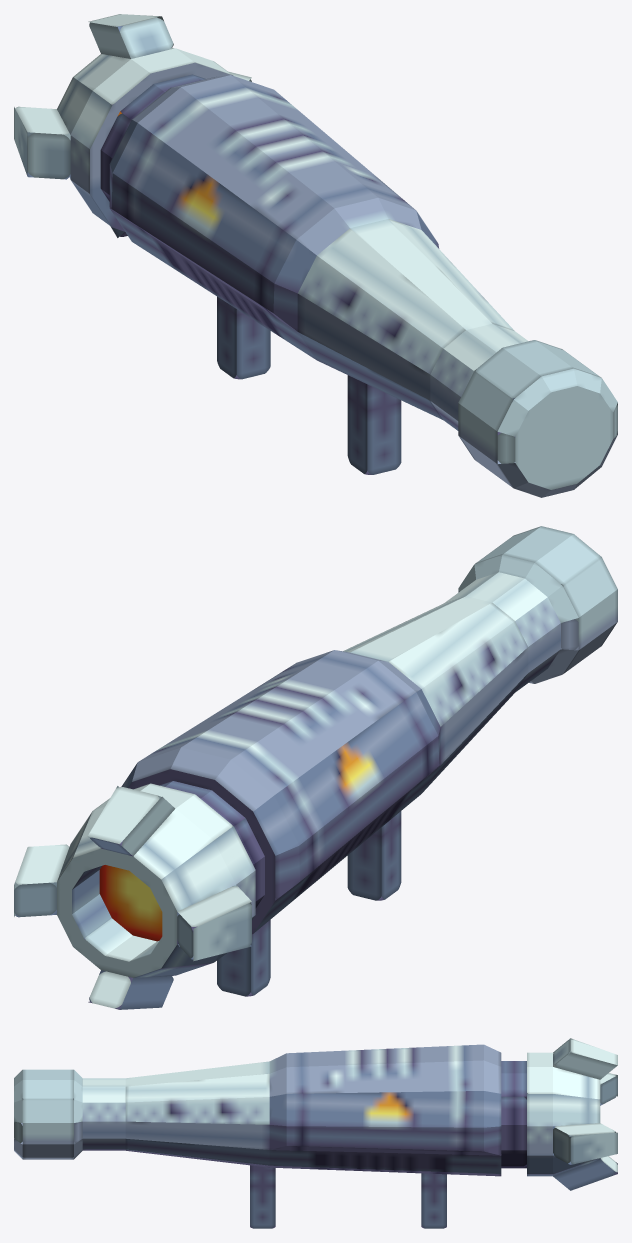
File: rocketlauncher.fbx
3 renders of one model, top to bottom at view 1: azimuth 30°, elevation 25°; view 2: azimuth 150°, elevation 25°; view 3: azimuth 270°, elevation 25°, orthographic. The views are drawn at different scales.
Visible parts, largest first — view 1: base, handle_back, handle_front; view 2: base, handle_back, handle_front; view 3: base, handle_back, handle_front.
Part boxes in pixels (x1,y1,x2,y2): base: (14, 14, 617, 497); handle_back: (347, 375, 401, 474); handle_front: (217, 296, 270, 379); base: (14, 526, 617, 1009); handle_back: (347, 811, 401, 900); handle_front: (217, 885, 270, 996); base: (14, 1038, 617, 1190); handle_back: (250, 1165, 275, 1228); handle_front: (421, 1173, 446, 1228).
Size of the model in its own units: 124 by 143 by 440.
Materials: 1 (1 with a texture image).
